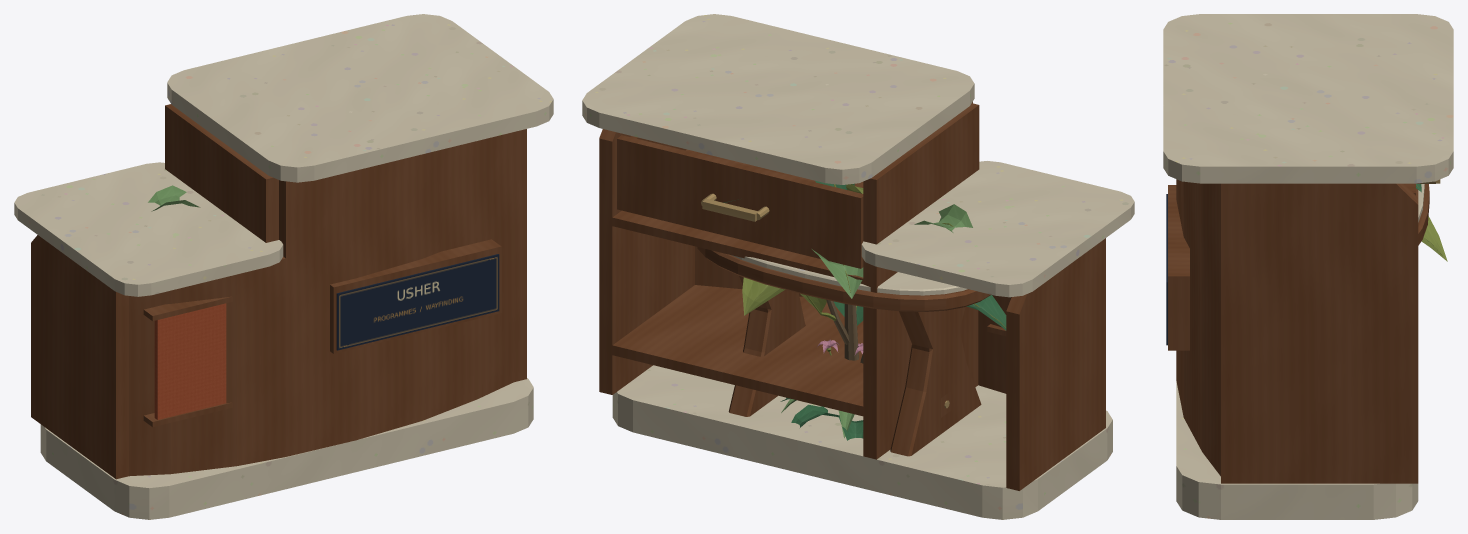
File: AST-CUL-005_court_A_prototypes_004.glb
3 renders of one model, left to right at view 1: azimuth 30°, elevation 25°; view 2: azimuth 150°, elevation 25°; view 3: azimuth 270°, elevation 25°, orthographic. The views are drawn at different scales.
Visible parts, largest first — view 1: A4_P_0136, A4_P_0135, A4_P_0134, A4_P_0132; view 2: A4_P_0135, A4_P_0136, A4_P_0140, A4_P_0139, A4_P_0126, A4_P_0125, A4_P_0123, A4_P_0124, A4_P_0133, A4_P_0129; view 3: A4_P_0136, A4_P_0135, A4_P_0125, A4_P_0140.
Part boxes in pixels (bbox=[...]): A4_P_0136: bbox=[31, 104, 526, 479]; A4_P_0135: bbox=[14, 14, 553, 519]; A4_P_0134: bbox=[336, 254, 499, 350]; A4_P_0132: bbox=[154, 303, 226, 419]; A4_P_0135: bbox=[582, 14, 1134, 519]; A4_P_0136: bbox=[599, 101, 1105, 490]; A4_P_0140: bbox=[697, 247, 991, 456]; A4_P_0139: bbox=[731, 255, 967, 295]; A4_P_0126: bbox=[812, 204, 972, 298]; A4_P_0125: bbox=[742, 184, 1005, 327]; A4_P_0123: bbox=[826, 299, 863, 363]; A4_P_0124: bbox=[723, 180, 1006, 330]; A4_P_0133: bbox=[701, 193, 769, 221]; A4_P_0129: bbox=[780, 397, 863, 440]; A4_P_0136: bbox=[1168, 179, 1418, 483]; A4_P_0135: bbox=[1163, 14, 1453, 519]; A4_P_0125: bbox=[1416, 184, 1447, 261]; A4_P_0140: bbox=[1418, 184, 1429, 245].
Size of the model in its own units: 1.51 by 1.07 by 0.78.
18 materials, 18 textured.
